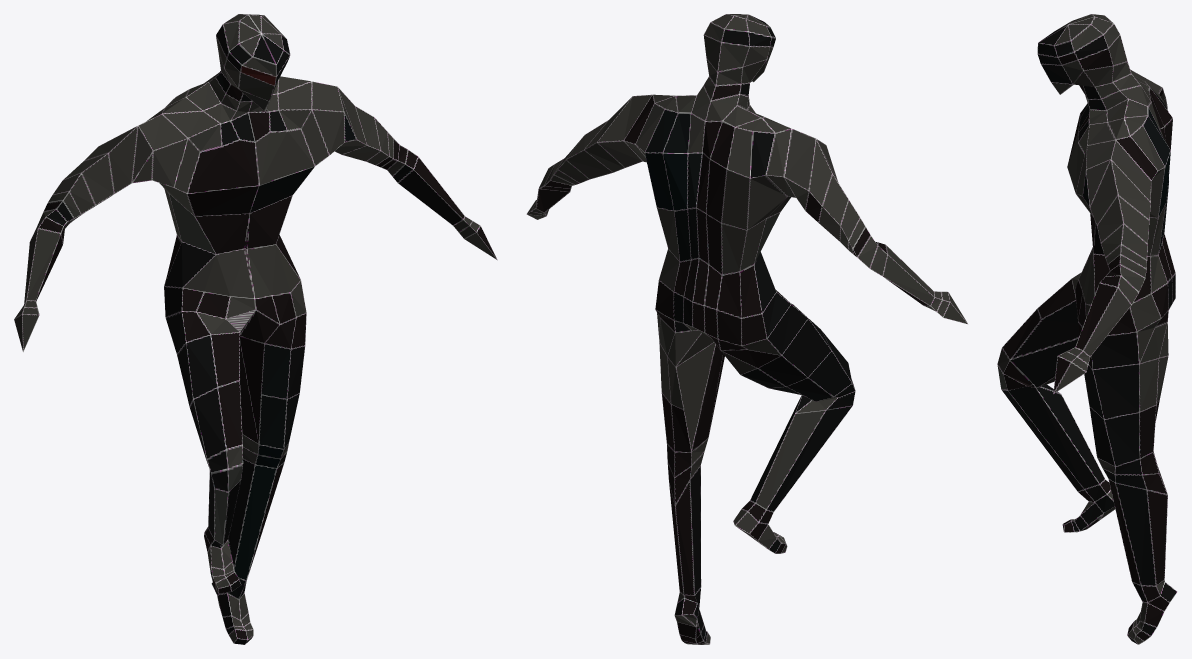
Rendered from lowpoliHitokunIdle.obj.
The picture shows the model from 3 angles, left to right: view 1: azimuth 30°, elevation 25°; view 2: azimuth 150°, elevation 25°; view 3: azimuth 270°, elevation 25°; orthographic projection. The views are drawn at different scales.
Visible parts, largest first — view 1: Cube; view 2: Cube; view 3: Cube.
Boxes of the visible parts, x1,y1,x2,y2 form: Cube: [14, 14, 497, 644]; Cube: [526, 14, 968, 644]; Cube: [997, 14, 1177, 644].
Size of the model in its own units: 4.99 by 6.68 by 1.77.
1 material, 1 textured.
